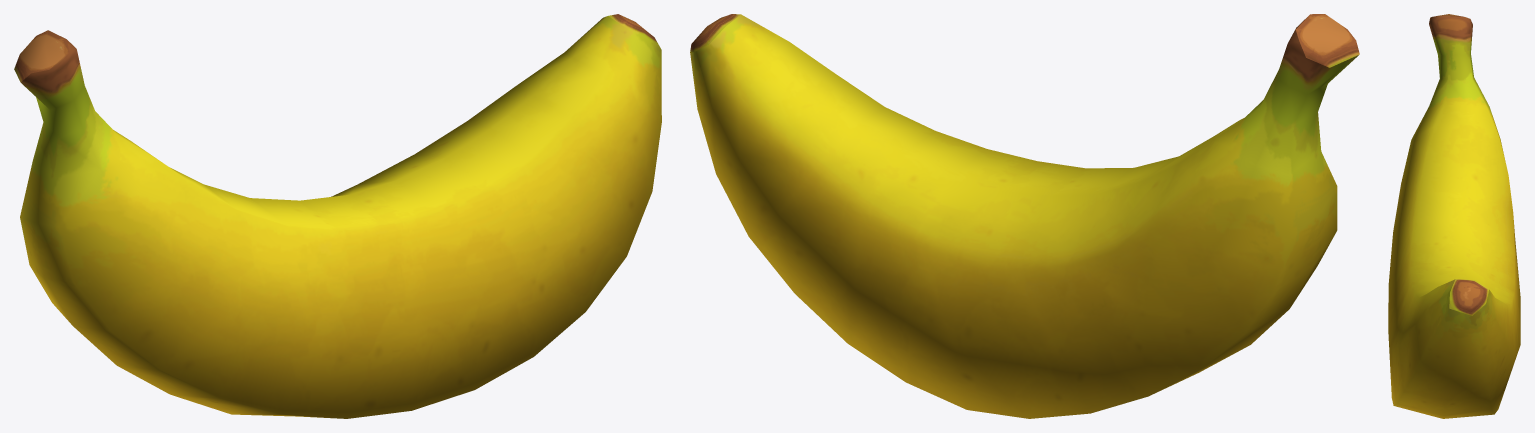
Rendered from SM_Banana.fbx.
The picture shows the model from 3 angles, left to right: view 1: azimuth 30°, elevation 25°; view 2: azimuth 150°, elevation 25°; view 3: azimuth 270°, elevation 25°; orthographic projection. The views are drawn at different scales.
Visible parts, largest first — view 1: SM_Banana; view 2: SM_Banana; view 3: SM_Banana.
Part boxes in pixels (bbox=[...]): SM_Banana: bbox=[14, 14, 661, 418]; SM_Banana: bbox=[690, 14, 1359, 418]; SM_Banana: bbox=[1388, 14, 1520, 418].
Size of the model in its own units: 25.29 by 16.39 by 6.88.
